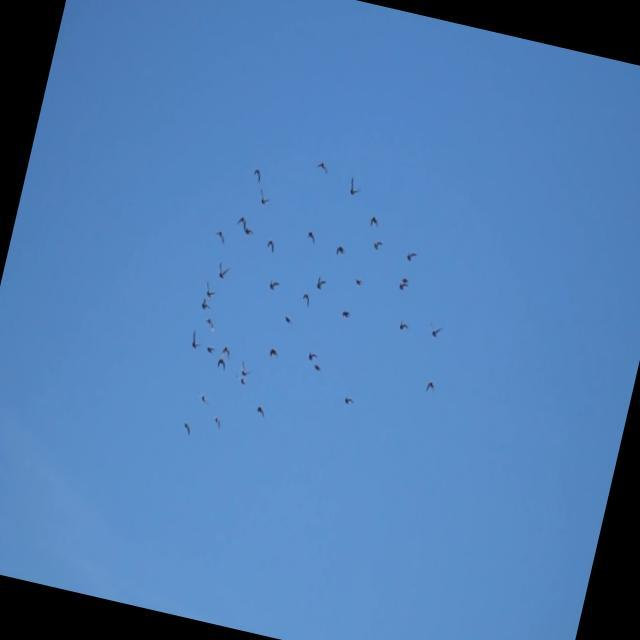bird: (188, 327, 205, 351), (426, 319, 445, 340), (347, 176, 364, 198), (202, 279, 219, 300), (256, 187, 273, 207), (236, 357, 254, 375), (215, 262, 231, 281), (424, 374, 438, 395), (314, 159, 331, 175), (212, 228, 228, 245), (233, 372, 249, 389), (313, 275, 328, 293), (299, 290, 313, 309), (305, 348, 321, 364), (304, 230, 318, 248), (209, 414, 223, 432), (179, 420, 193, 438), (251, 165, 264, 184), (202, 315, 217, 331), (404, 249, 419, 264), (266, 345, 281, 360), (341, 394, 356, 409), (367, 214, 381, 230), (235, 213, 249, 229), (264, 238, 276, 256), (241, 224, 255, 239), (397, 317, 411, 332), (281, 311, 295, 326), (214, 357, 228, 372), (253, 404, 267, 419), (199, 296, 212, 312), (267, 278, 281, 292), (197, 392, 211, 406), (219, 344, 232, 359), (371, 238, 384, 252), (396, 281, 410, 294), (339, 307, 353, 320), (335, 244, 347, 259), (311, 360, 323, 372), (205, 342, 217, 354), (400, 276, 410, 286), (355, 275, 364, 286)
